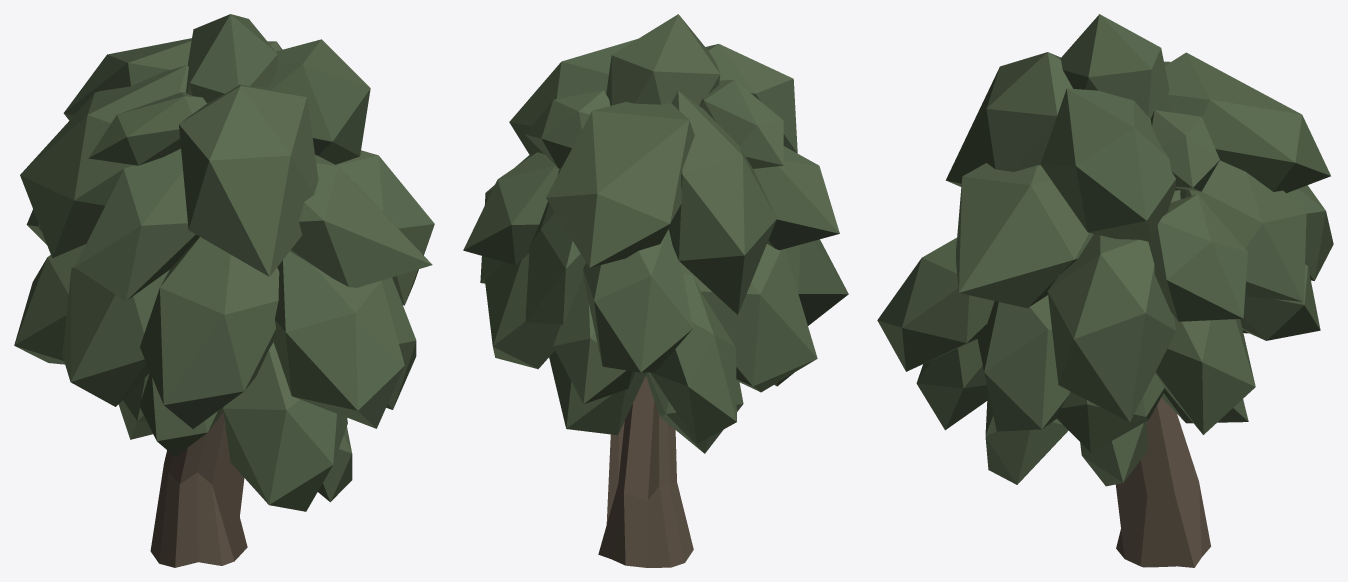
File: LeafTree2.fbx
The picture shows the model from 3 angles, left to right: view 1: azimuth 30°, elevation 25°; view 2: azimuth 150°, elevation 25°; view 3: azimuth 270°, elevation 25°; orthographic projection. The views are drawn at different scales.
Visible parts, largest first — view 1: tree; view 2: tree; view 3: tree.
Boxes of the visible parts, x1,y1,x2,y2 form: tree: [14, 14, 434, 567]; tree: [463, 14, 848, 567]; tree: [877, 14, 1333, 567].
Bounding box in the file's own units: 604 × 891 × 683.
